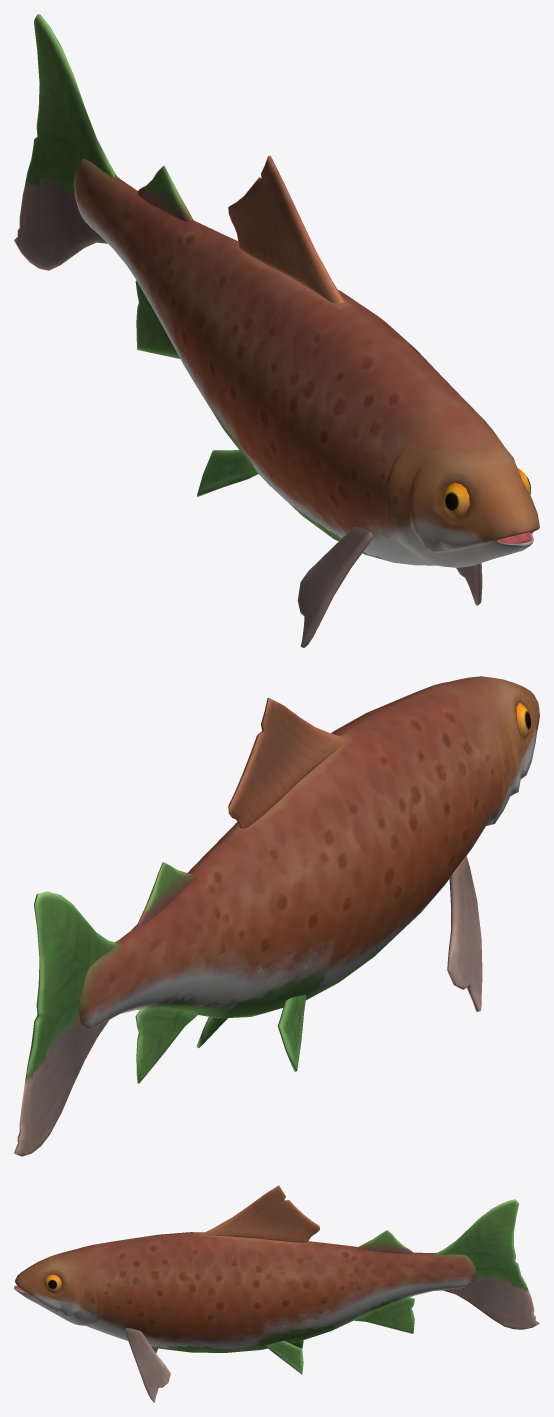
3 renders of one model, top to bottom at view 1: azimuth 30°, elevation 25°; view 2: azimuth 150°, elevation 25°; view 3: azimuth 270°, elevation 25°, orthographic. The views are drawn at different scales.
Visible parts, largest first — view 1: SM_Fish_Trout_01_QUEST_LOD0; view 2: SM_Fish_Trout_01_QUEST_LOD0; view 3: SM_Fish_Trout_01_QUEST_LOD0.
Part boxes in pixels (<box>): SM_Fish_Trout_01_QUEST_LOD0: <box>14,14,539,647</box>; SM_Fish_Trout_01_QUEST_LOD0: <box>14,676,539,1156</box>; SM_Fish_Trout_01_QUEST_LOD0: <box>14,1185,539,1402</box>.
Bounding box in the file's own units: 0.1384 × 0.2807 × 0.6831.
1 material, 1 textured.
